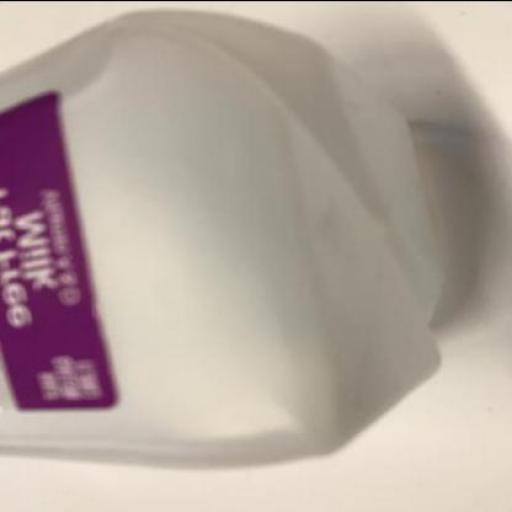plastic: (0, 14, 452, 464)
